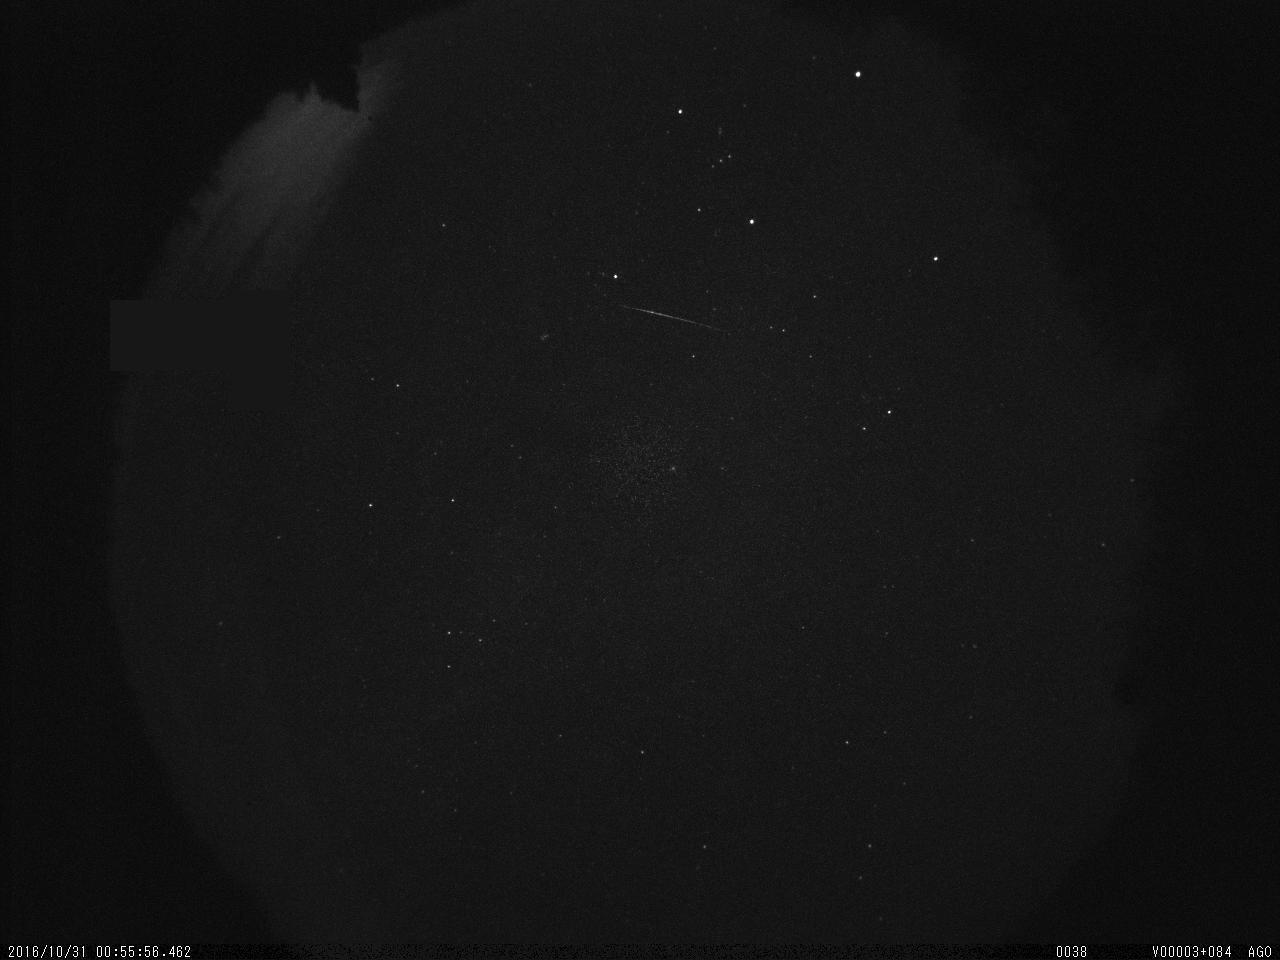meteor: (621, 295, 716, 337)
